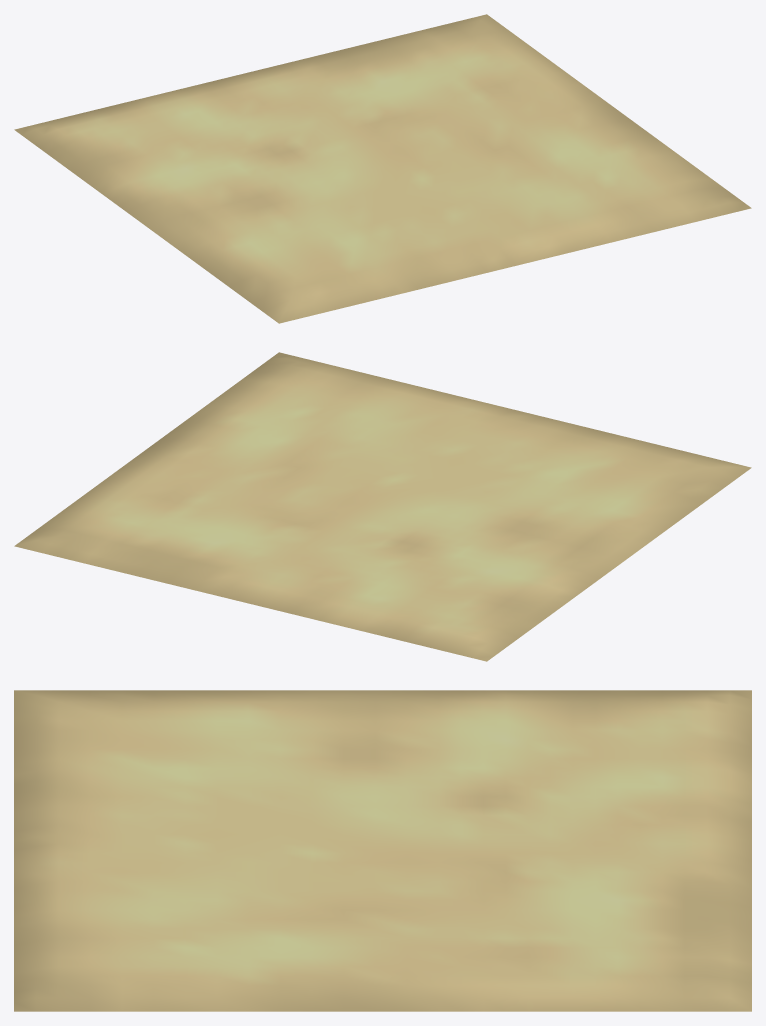
File: Kit_Ground_Calm_Glow_01.glb
3 views of the same model, one above another, from view 1: azimuth 30°, elevation 25°; view 2: azimuth 150°, elevation 25°; view 3: azimuth 270°, elevation 25° (orthographic). The views are drawn at different scales.
Parts seen in each view (by area): view 1: EX_GroundGlow_Grass; view 2: EX_GroundGlow_Grass; view 3: EX_GroundGlow_Grass.
Part boxes in pixels (x1,y1,x2,y2): EX_GroundGlow_Grass: (14,14,751,323); EX_GroundGlow_Grass: (14,352,751,661); EX_GroundGlow_Grass: (14,690,751,1011).
Size of what is drawn, in the model's own units: 34 by 0.35 by 33.
